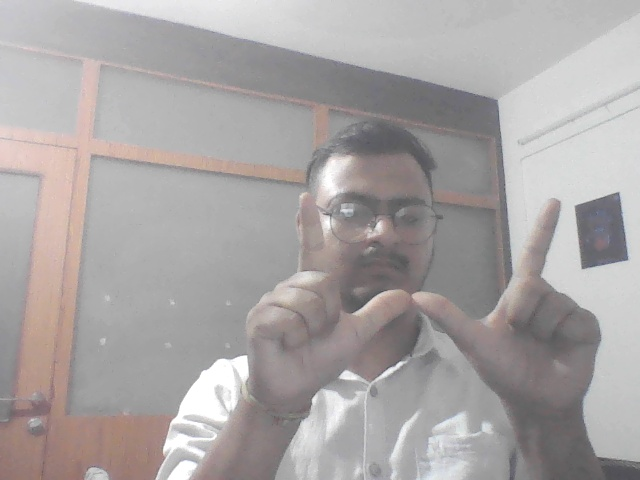Whatever: (233, 186, 613, 422)
